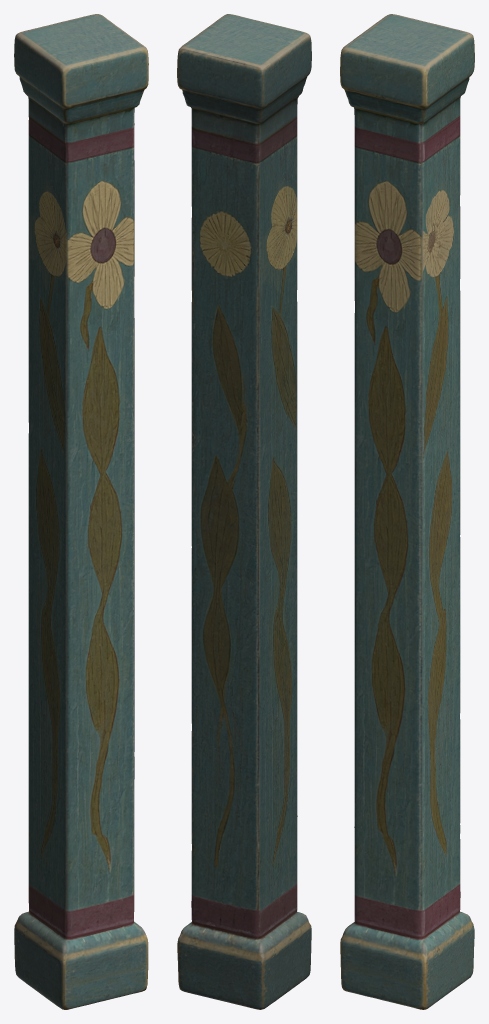
File: Furn_PuppetStage_Pillar.fbx
3 views of the same model, side by side, from view 1: azimuth 30°, elevation 25°; view 2: azimuth 150°, elevation 25°; view 3: azimuth 330°, elevation 25° (orthographic).
Visible parts, largest first — view 1: texture_mapping; view 2: texture_mapping; view 3: texture_mapping.
Part boxes in pixels (x1,y1,x2,y2): texture_mapping: (14, 14, 148, 1009); texture_mapping: (177, 14, 311, 1009); texture_mapping: (340, 14, 474, 1009).
Bounding box in the file's own units: 0.0971 × 0.0985 × 0.9958.
1 material, 1 textured.
